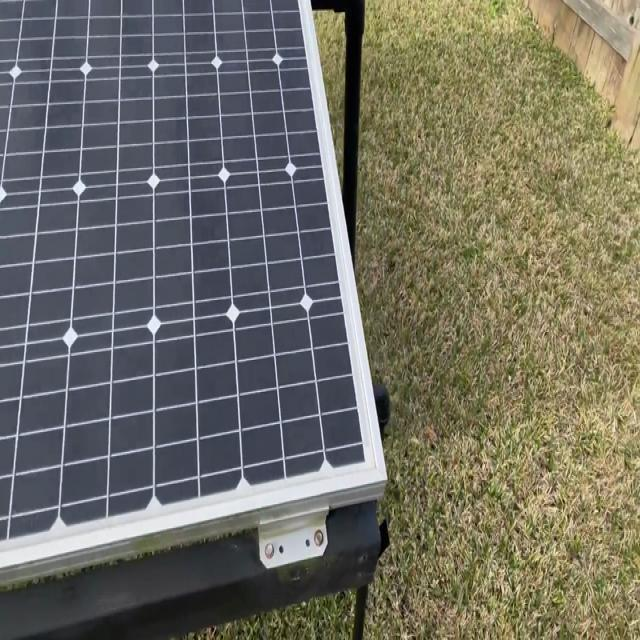Normal Solar Panel: (1, 1, 387, 587)
